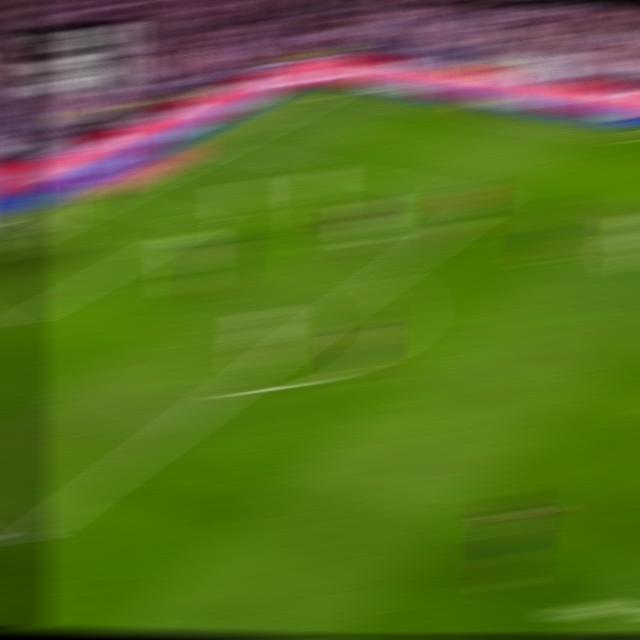bigarea_bottom_inner: (4, 523, 45, 556)
bigarea_top_inner: (473, 190, 506, 207)
bottom_arc_area_intersection: (209, 377, 248, 403)
corner: (315, 87, 350, 96)
smallarea_top_inner: (184, 212, 218, 231)
top_arc_area_intersection: (367, 267, 402, 284)
